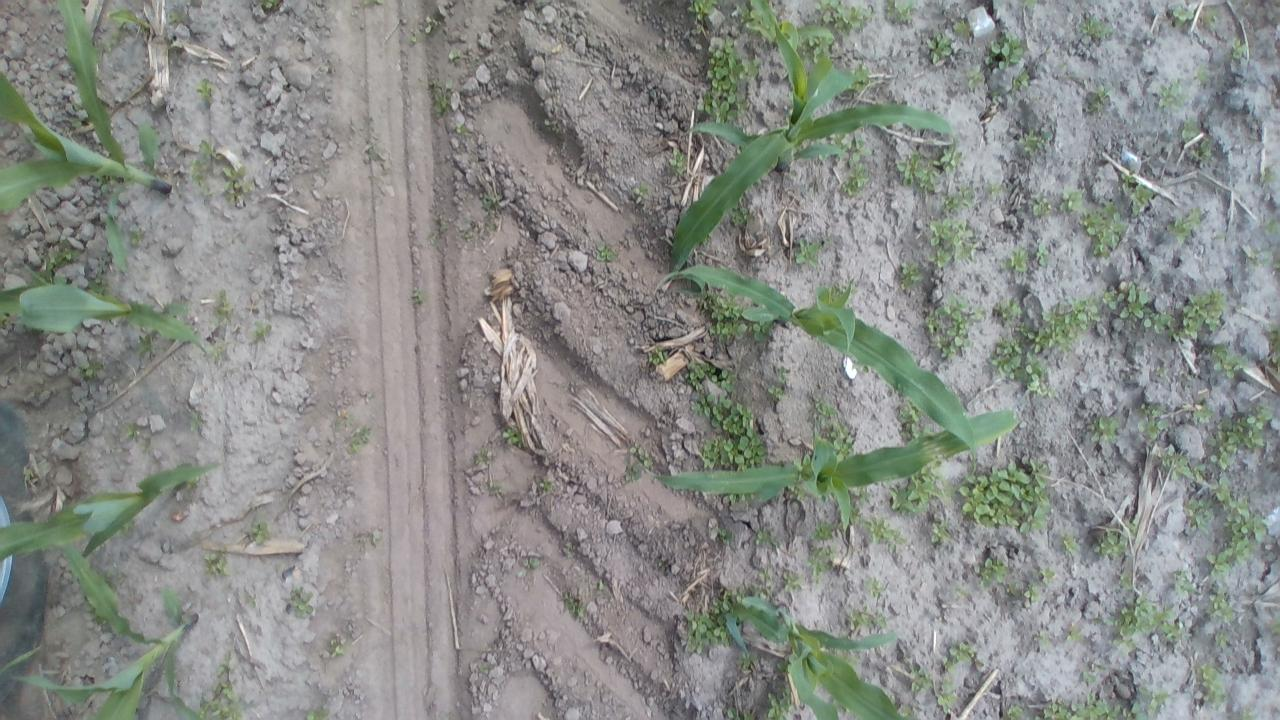Maize: (669, 0, 956, 285), (657, 264, 981, 487), (654, 406, 1020, 540), (2, 0, 174, 282), (6, 543, 198, 718), (715, 593, 904, 718), (0, 463, 221, 560), (1, 274, 214, 363)
Weeds: (959, 461, 1051, 530), (1206, 403, 1269, 471), (1216, 482, 1264, 567), (701, 404, 763, 465), (926, 298, 984, 360), (708, 42, 757, 104), (200, 650, 238, 718), (1091, 518, 1140, 567), (1111, 597, 1153, 653), (1082, 209, 1126, 258), (866, 516, 910, 556), (984, 333, 1022, 379), (941, 640, 989, 675), (622, 442, 658, 488), (940, 226, 980, 264), (1016, 354, 1052, 396), (803, 544, 833, 594), (683, 610, 720, 650), (761, 364, 793, 410), (47, 234, 79, 280), (1123, 689, 1169, 720), (1038, 702, 1120, 719), (1020, 323, 1068, 352), (120, 418, 156, 456), (427, 78, 458, 121), (1196, 660, 1226, 704), (476, 186, 506, 229), (814, 1, 871, 23), (896, 398, 922, 444), (1165, 450, 1206, 479), (1186, 291, 1222, 324), (1004, 579, 1046, 607), (930, 677, 960, 716), (1260, 320, 1280, 378), (1124, 174, 1154, 212), (707, 586, 743, 617), (223, 168, 249, 208), (192, 141, 214, 187), (696, 97, 744, 118), (210, 285, 235, 325), (1139, 407, 1168, 440), (991, 34, 1025, 62), (695, 392, 729, 420), (1120, 285, 1148, 319), (423, 214, 449, 249), (848, 609, 891, 630), (1187, 494, 1212, 530), (1212, 346, 1241, 376), (184, 403, 206, 442), (1086, 81, 1112, 114), (802, 37, 836, 62), (1090, 415, 1119, 444), (918, 162, 942, 197), (1060, 182, 1084, 217), (210, 333, 233, 369), (688, 1, 721, 26), (978, 557, 1003, 590), (1062, 300, 1096, 324), (1172, 209, 1200, 238), (356, 526, 384, 555), (896, 155, 922, 186), (908, 479, 938, 505), (98, 30, 129, 55), (748, 568, 772, 600), (1077, 13, 1110, 36), (1174, 569, 1202, 596), (108, 9, 144, 30), (1028, 191, 1054, 220), (926, 34, 952, 63), (456, 216, 480, 247), (1244, 246, 1272, 272), (847, 66, 875, 92), (290, 588, 314, 618), (1144, 311, 1176, 333), (1058, 528, 1080, 560), (644, 344, 668, 373), (134, 330, 154, 364), (1206, 592, 1232, 618), (766, 691, 790, 719), (1080, 662, 1108, 686), (888, 0, 916, 24), (964, 62, 985, 94), (406, 285, 430, 312), (828, 426, 856, 449), (900, 262, 920, 294), (1190, 397, 1212, 426), (1205, 550, 1229, 576), (794, 241, 820, 265), (1230, 36, 1254, 62), (1012, 66, 1036, 92), (993, 300, 1020, 323), (1160, 614, 1182, 642), (633, 182, 654, 211), (956, 178, 976, 208), (1230, 698, 1257, 720), (347, 425, 369, 452), (845, 138, 869, 162), (724, 493, 760, 509), (927, 221, 950, 246), (164, 4, 186, 30), (1112, 570, 1138, 592), (736, 654, 762, 676), (890, 487, 911, 514), (1258, 164, 1278, 192), (1020, 130, 1043, 154), (79, 356, 105, 377), (717, 524, 736, 552), (204, 552, 228, 574), (711, 300, 736, 321), (948, 580, 973, 601), (722, 706, 759, 720), (939, 480, 958, 507), (714, 323, 744, 340), (422, 15, 444, 38), (846, 170, 868, 193), (300, 706, 336, 720), (788, 481, 809, 505), (1192, 138, 1212, 163), (1192, 65, 1212, 90), (1000, 702, 1027, 720), (1034, 565, 1056, 587), (535, 477, 558, 498), (940, 148, 960, 172), (1008, 248, 1028, 272), (1034, 244, 1053, 269), (1204, 6, 1223, 31), (486, 478, 504, 504), (1156, 84, 1177, 106), (1212, 631, 1236, 650), (1032, 627, 1050, 652), (780, 569, 802, 589), (942, 192, 962, 214), (564, 592, 583, 615), (815, 402, 838, 421), (813, 522, 837, 540), (909, 668, 929, 689), (20, 465, 39, 487), (255, 0, 286, 13), (866, 578, 886, 598), (920, 459, 944, 475), (930, 522, 949, 542), (897, 703, 922, 718), (244, 593, 261, 615), (687, 364, 707, 382), (856, 487, 876, 505), (848, 506, 866, 526), (670, 154, 686, 176), (1064, 620, 1080, 642), (480, 659, 498, 678), (253, 322, 272, 340), (1182, 120, 1197, 142), (712, 371, 734, 386), (502, 426, 520, 444), (732, 207, 749, 226), (1152, 362, 1168, 382), (990, 179, 1006, 199), (130, 226, 146, 246), (252, 524, 268, 544), (330, 636, 346, 656), (1170, 7, 1190, 22), (596, 244, 613, 261), (1100, 289, 1117, 306), (1260, 218, 1278, 234), (452, 122, 470, 138), (1269, 613, 1280, 639), (591, 580, 608, 596), (359, 0, 386, 10), (749, 325, 767, 340), (198, 82, 212, 101), (473, 447, 486, 467), (757, 530, 774, 545), (522, 558, 540, 572), (446, 47, 461, 62), (560, 540, 574, 556), (409, 30, 423, 46), (544, 118, 556, 134), (202, 186, 214, 198)
